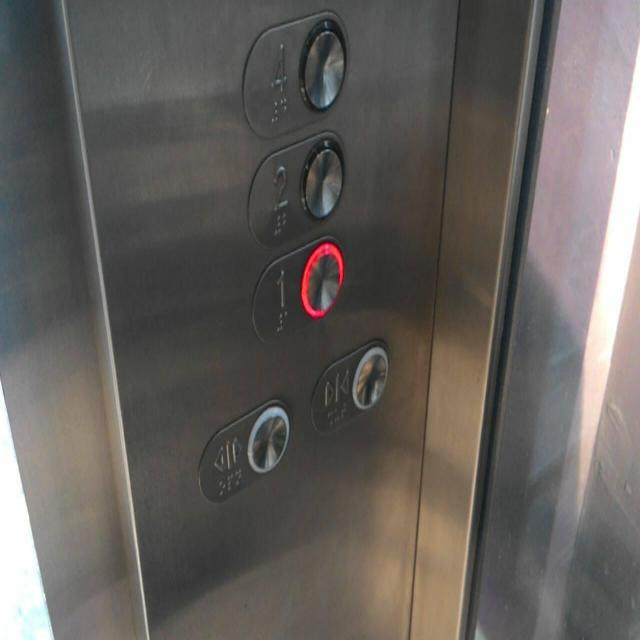1: (252, 233, 346, 343)
2: (245, 130, 346, 245)
4: (243, 11, 349, 137)
close: (312, 334, 394, 435)
open: (197, 395, 293, 505)
